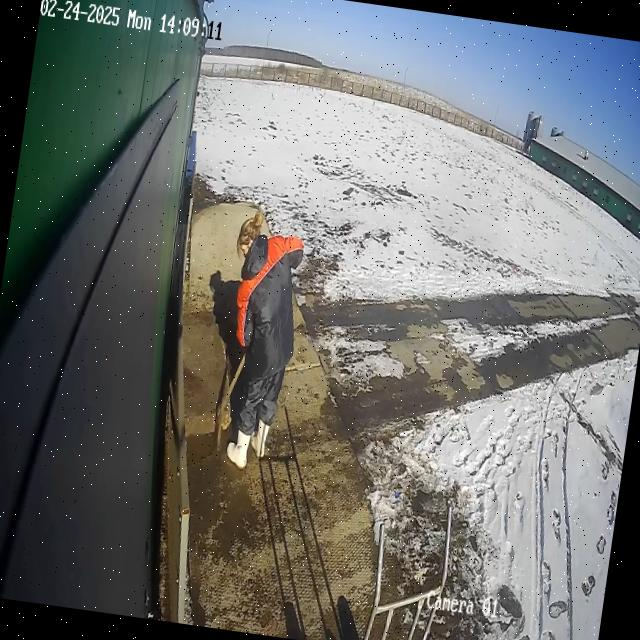Red uniform: (216, 227, 310, 446)
